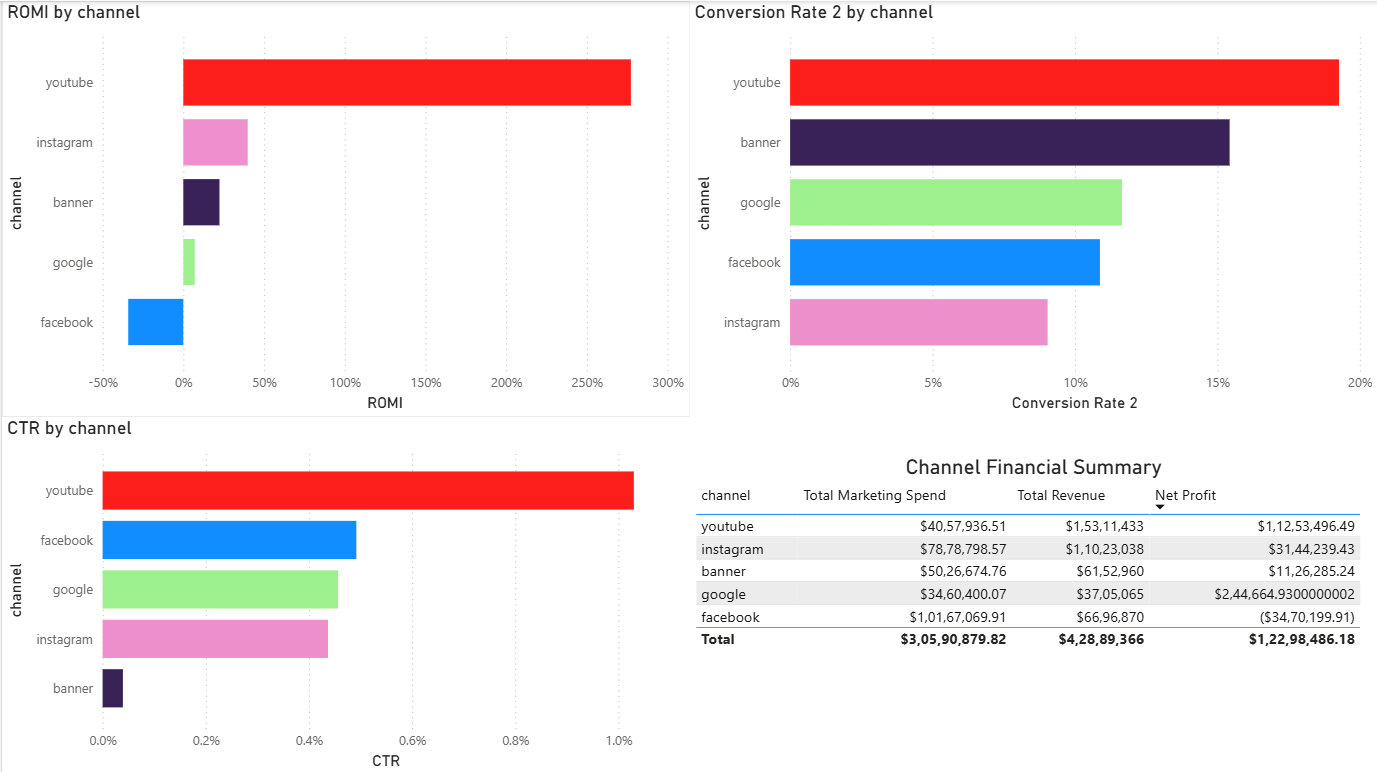

What the dashboard file says about the page in this screenshot:
{"tool":"powerbi","page":{"name":"Channel Performance","canvas":[1280,720],"ordinal":1},"visuals":[{"type":"clusteredBarChart","fields":{"Category":["Marketing.channel"],"Y":["Marketing.ROMI"]},"box":[0,0,639.3,386.9],"z":0},{"type":"tableEx","title":"Channel Financial Summary","fields":{"Values":["Marketing.channel","Marketing.Total Marketing Spend","Marketing.Total Revenue","Marketing.Net Profit"]},"box":[639.5,422.1,640.7,193],"z":1000},{"type":"clusteredBarChart","fields":{"Category":["Marketing.channel"],"Y":["Marketing.CTR"]},"box":[0,387.2,639.5,332.6],"z":2000},{"type":"clusteredBarChart","fields":{"Category":["Marketing.channel"],"Y":["Marketing.Conversion Rate 2"]},"box":[639.5,0,640.7,387.2],"z":3000}]}

Visuals, with their boxes in screenshot pixels (x1, y1, x2, y2), scaled from the page's 1280x720 canvas onto the 1377x772 screenshot:
clusteredBarChart - Marketing.channel x Marketing.ROMI: [0, 0, 688, 415]
"Channel Financial Summary" tableEx: [688, 453, 1376, 660]
clusteredBarChart - Marketing.channel x Marketing.CTR: [0, 415, 688, 771]
clusteredBarChart - Marketing.channel x Marketing.Conversion Rate 2: [688, 0, 1376, 415]
